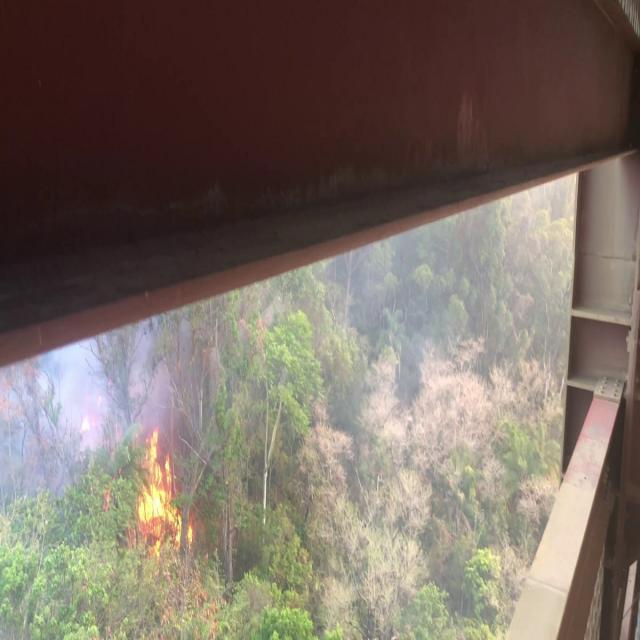Fire: (133, 424, 197, 562)
